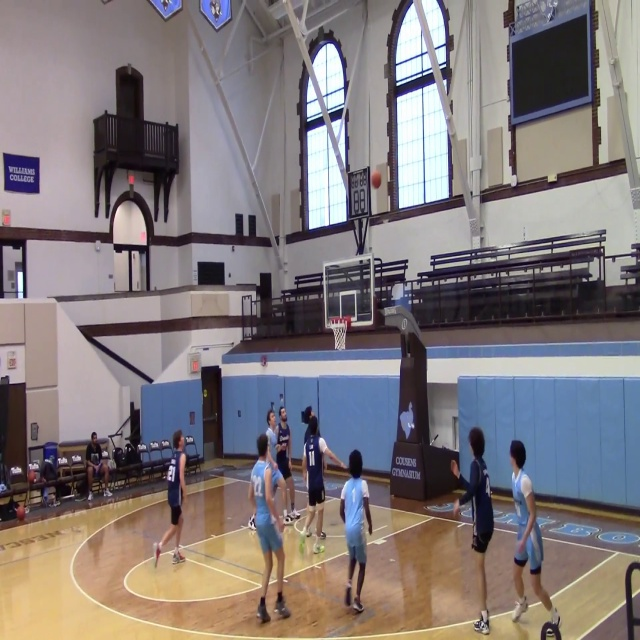Basketball: (370, 171, 382, 189), (15, 506, 25, 520), (27, 470, 36, 482)
